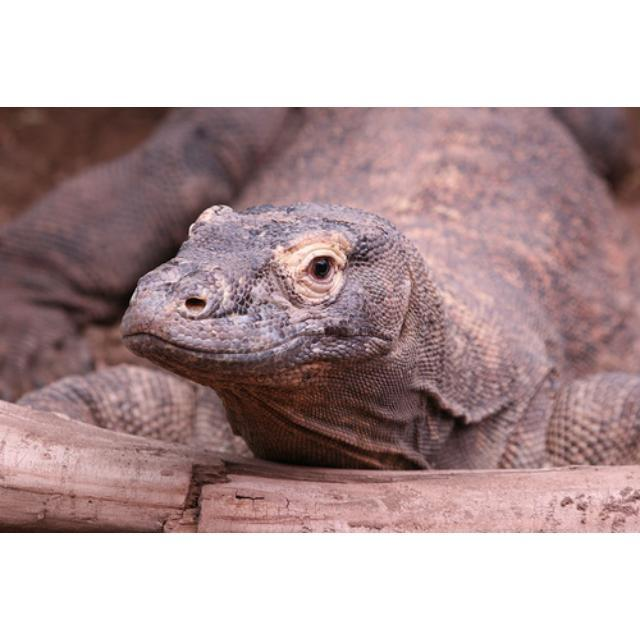KomodoDragon: (1, 107, 638, 465)
